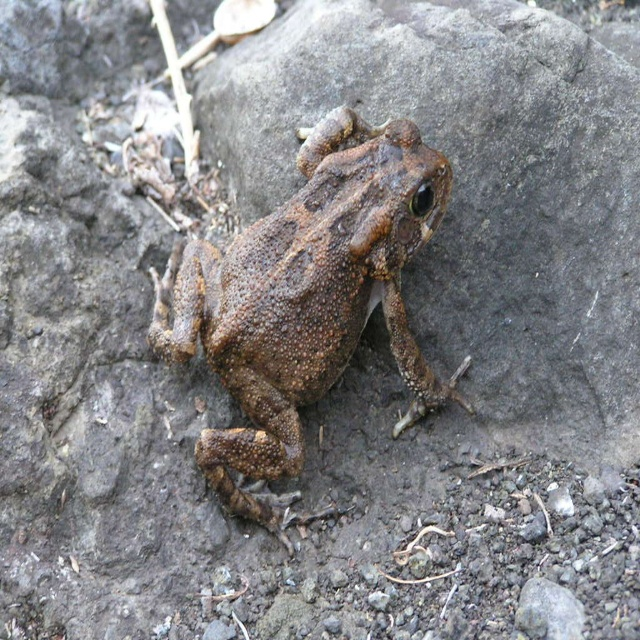Frog: (144, 102, 478, 559)
